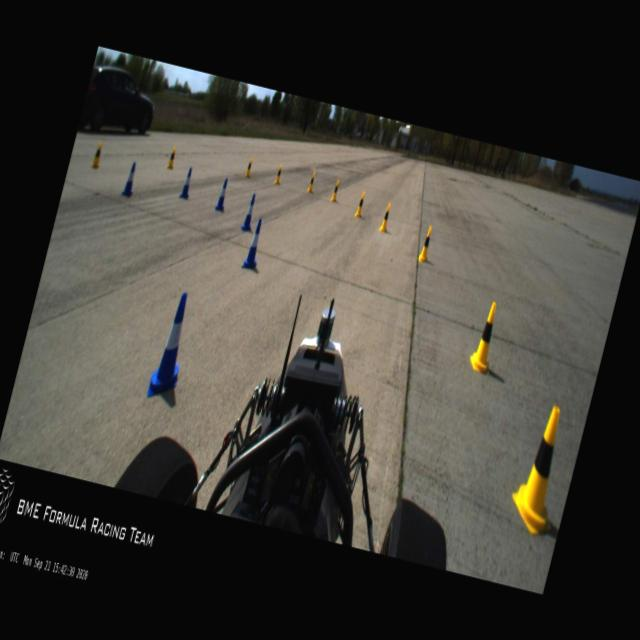blue_cone: (146, 290, 198, 402), (241, 217, 267, 270), (240, 192, 258, 232), (120, 162, 140, 198), (214, 177, 230, 210), (179, 167, 195, 200)
yellow_cone: (504, 400, 578, 537), (467, 298, 505, 375), (417, 225, 434, 262), (90, 140, 104, 168), (379, 203, 392, 231), (354, 189, 366, 217), (166, 147, 178, 169), (243, 156, 254, 178), (330, 178, 340, 202), (274, 162, 284, 184), (306, 170, 316, 192)
